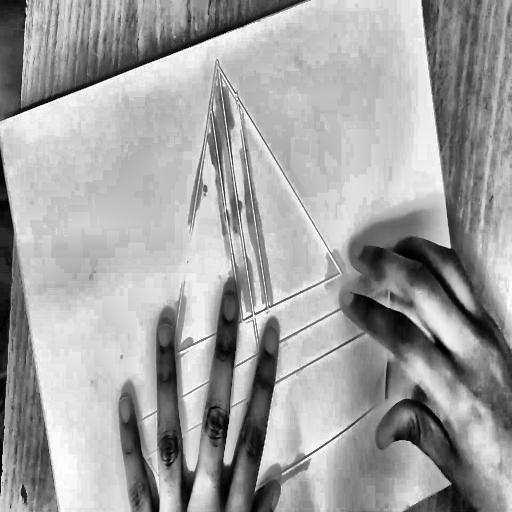boat: (62, 0, 435, 512)
bottom_right: (480, 450, 490, 467)
